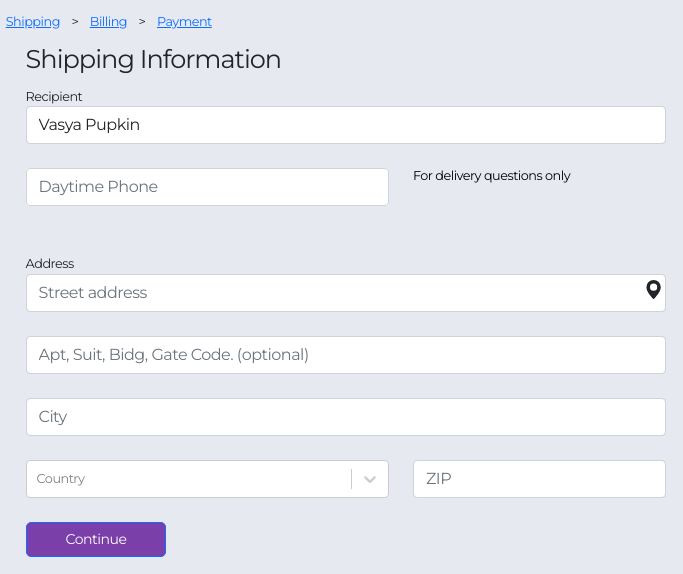
Test: check phone field › should set the phone value on change event
Type "78005553535" into the field with placeholder "Daytime Phone" at (207, 188), box left=26, top=168, right=389, bottom=206
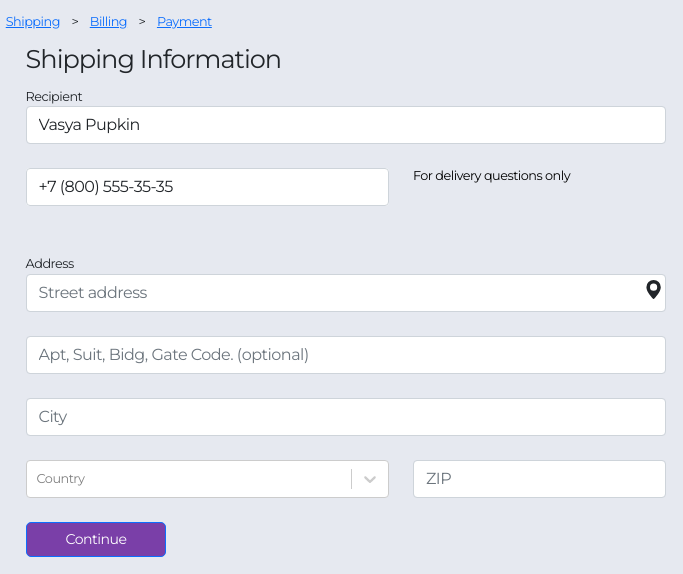
expect the field next to "For delivery questions only" holds "+7 (800) 555-35-35": met, box left=26, top=168, right=389, bottom=206
